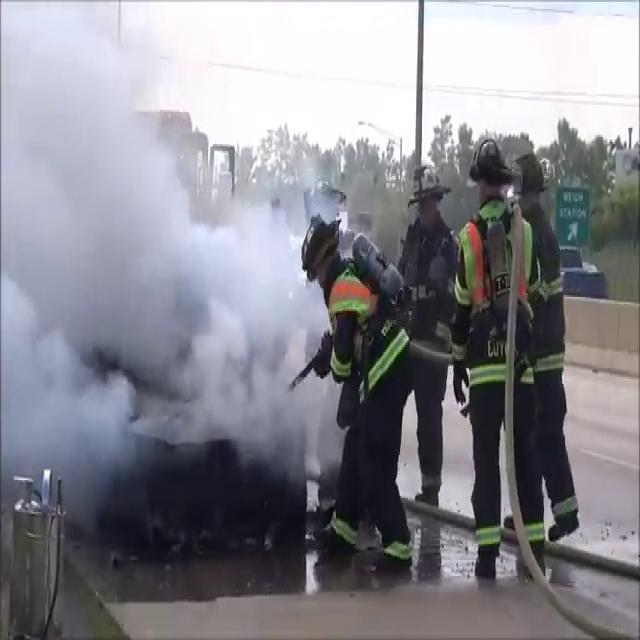Smoke: (2, 4, 336, 493)
